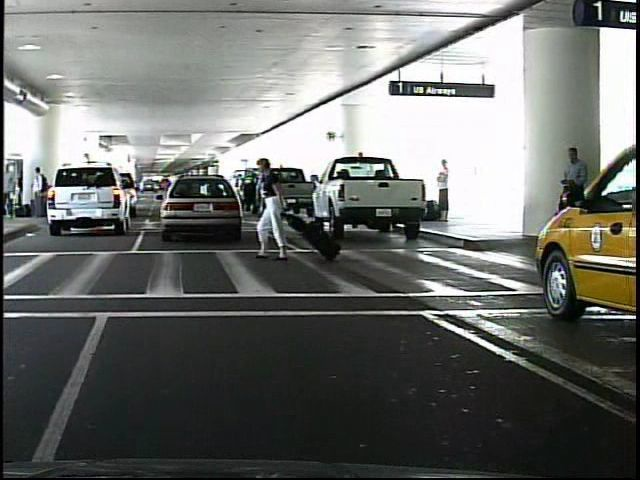person: (554, 144, 592, 268), (259, 157, 299, 260), (431, 156, 456, 223), (30, 163, 48, 223)
